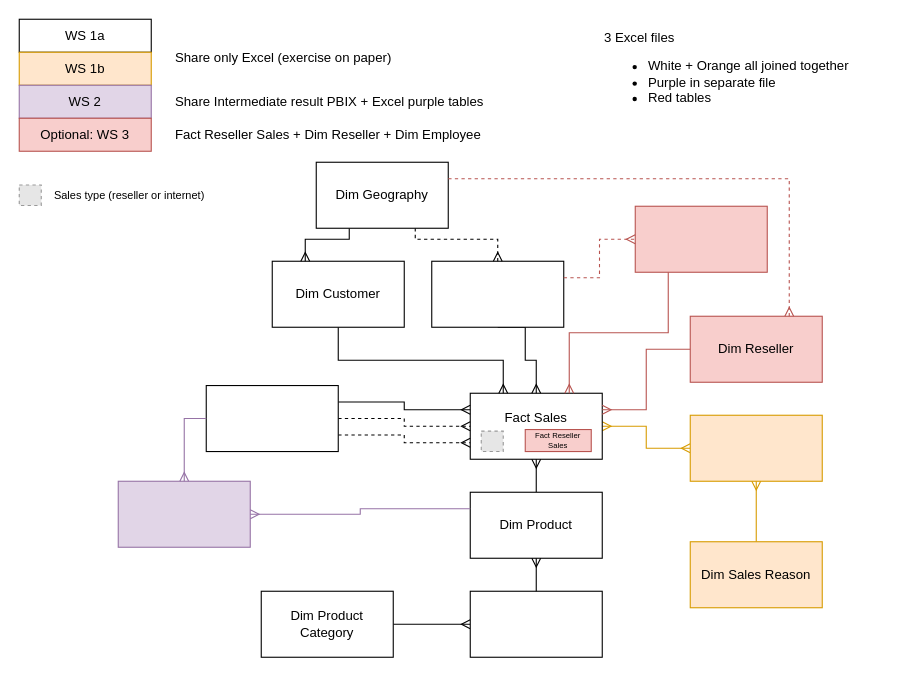
Some shapes in this 897 by 677 pixel diagram are drawn without their labels. Grey dashed boxes stand in for pictures. Each missing label, with the centre of its shape:
Dim Date: point (271, 418)
Dim Employee: point (700, 238)
Dim Product Sub Category: point (535, 623)
Dim Sales Territory: point (497, 293)
Fact Product Inventory: point (183, 513)
Fact Sales Reason: point (755, 447)
